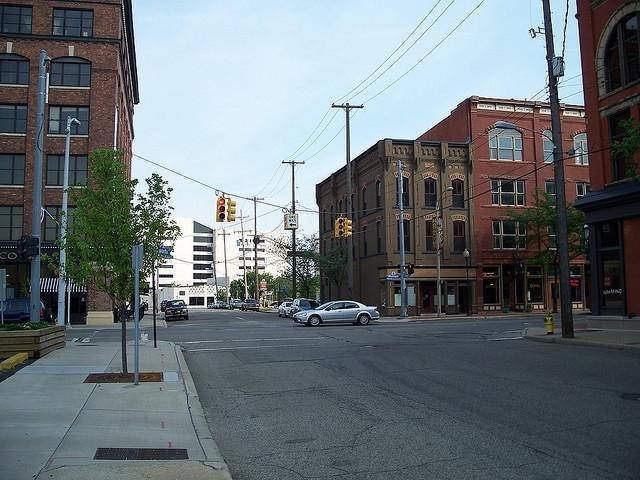car: (293, 300, 380, 326), (0, 298, 53, 324), (165, 299, 189, 322), (290, 298, 318, 316), (240, 299, 260, 312), (278, 302, 293, 318), (229, 299, 242, 310), (214, 300, 230, 308), (160, 300, 168, 312), (208, 304, 215, 310)
